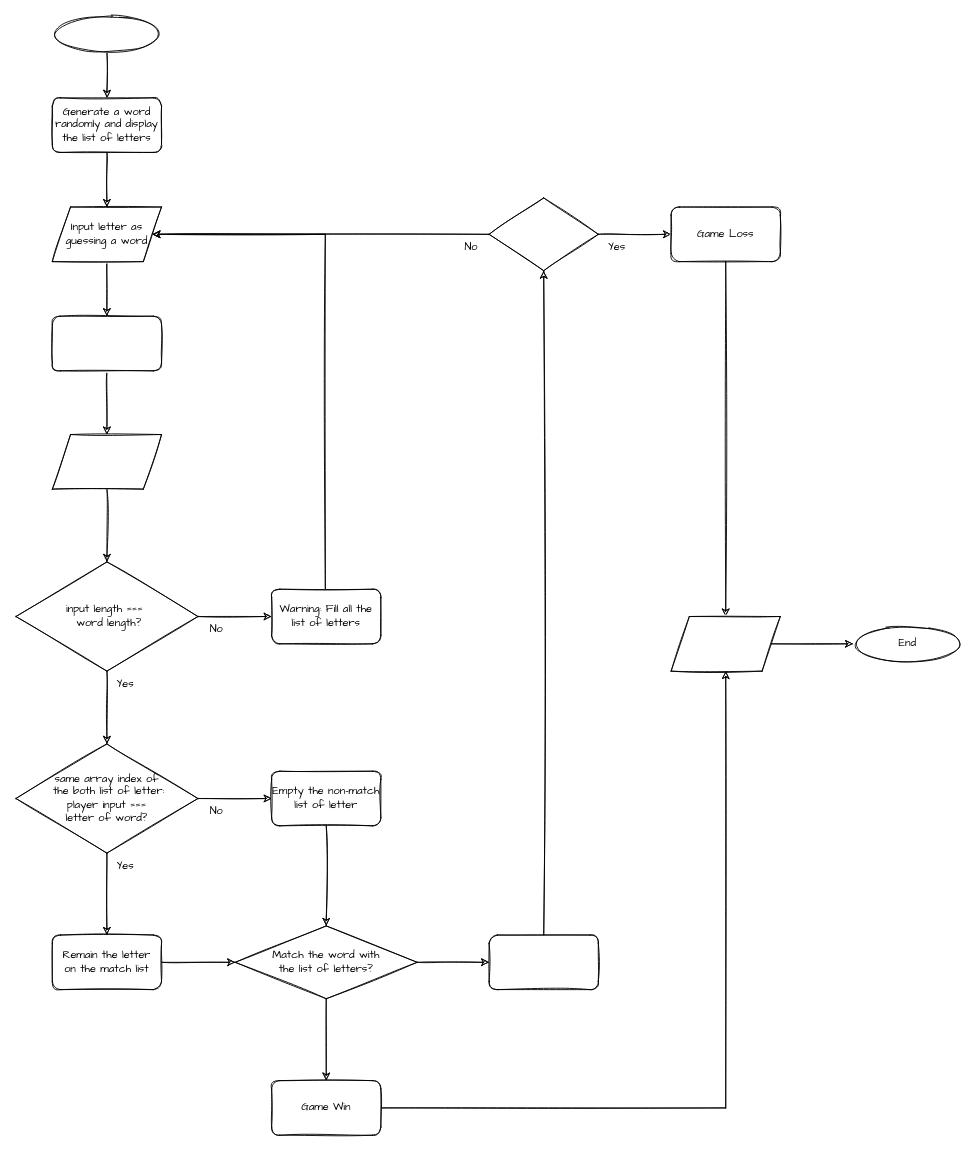
Image size: 978x1151. Some labels were removed from this diagram. Each missing label, with the centre of its shape:
"Click guess button" belongs at point 106,461.
"Each letter stores in list of letters or could be deleted" belongs at point 106,343.
"Life -= 1" belongs at point 543,962.
"Life == 0?" belongs at point 543,234.
"Play Again" belongs at point 725,643.
"Start" belongs at point 106,33.
